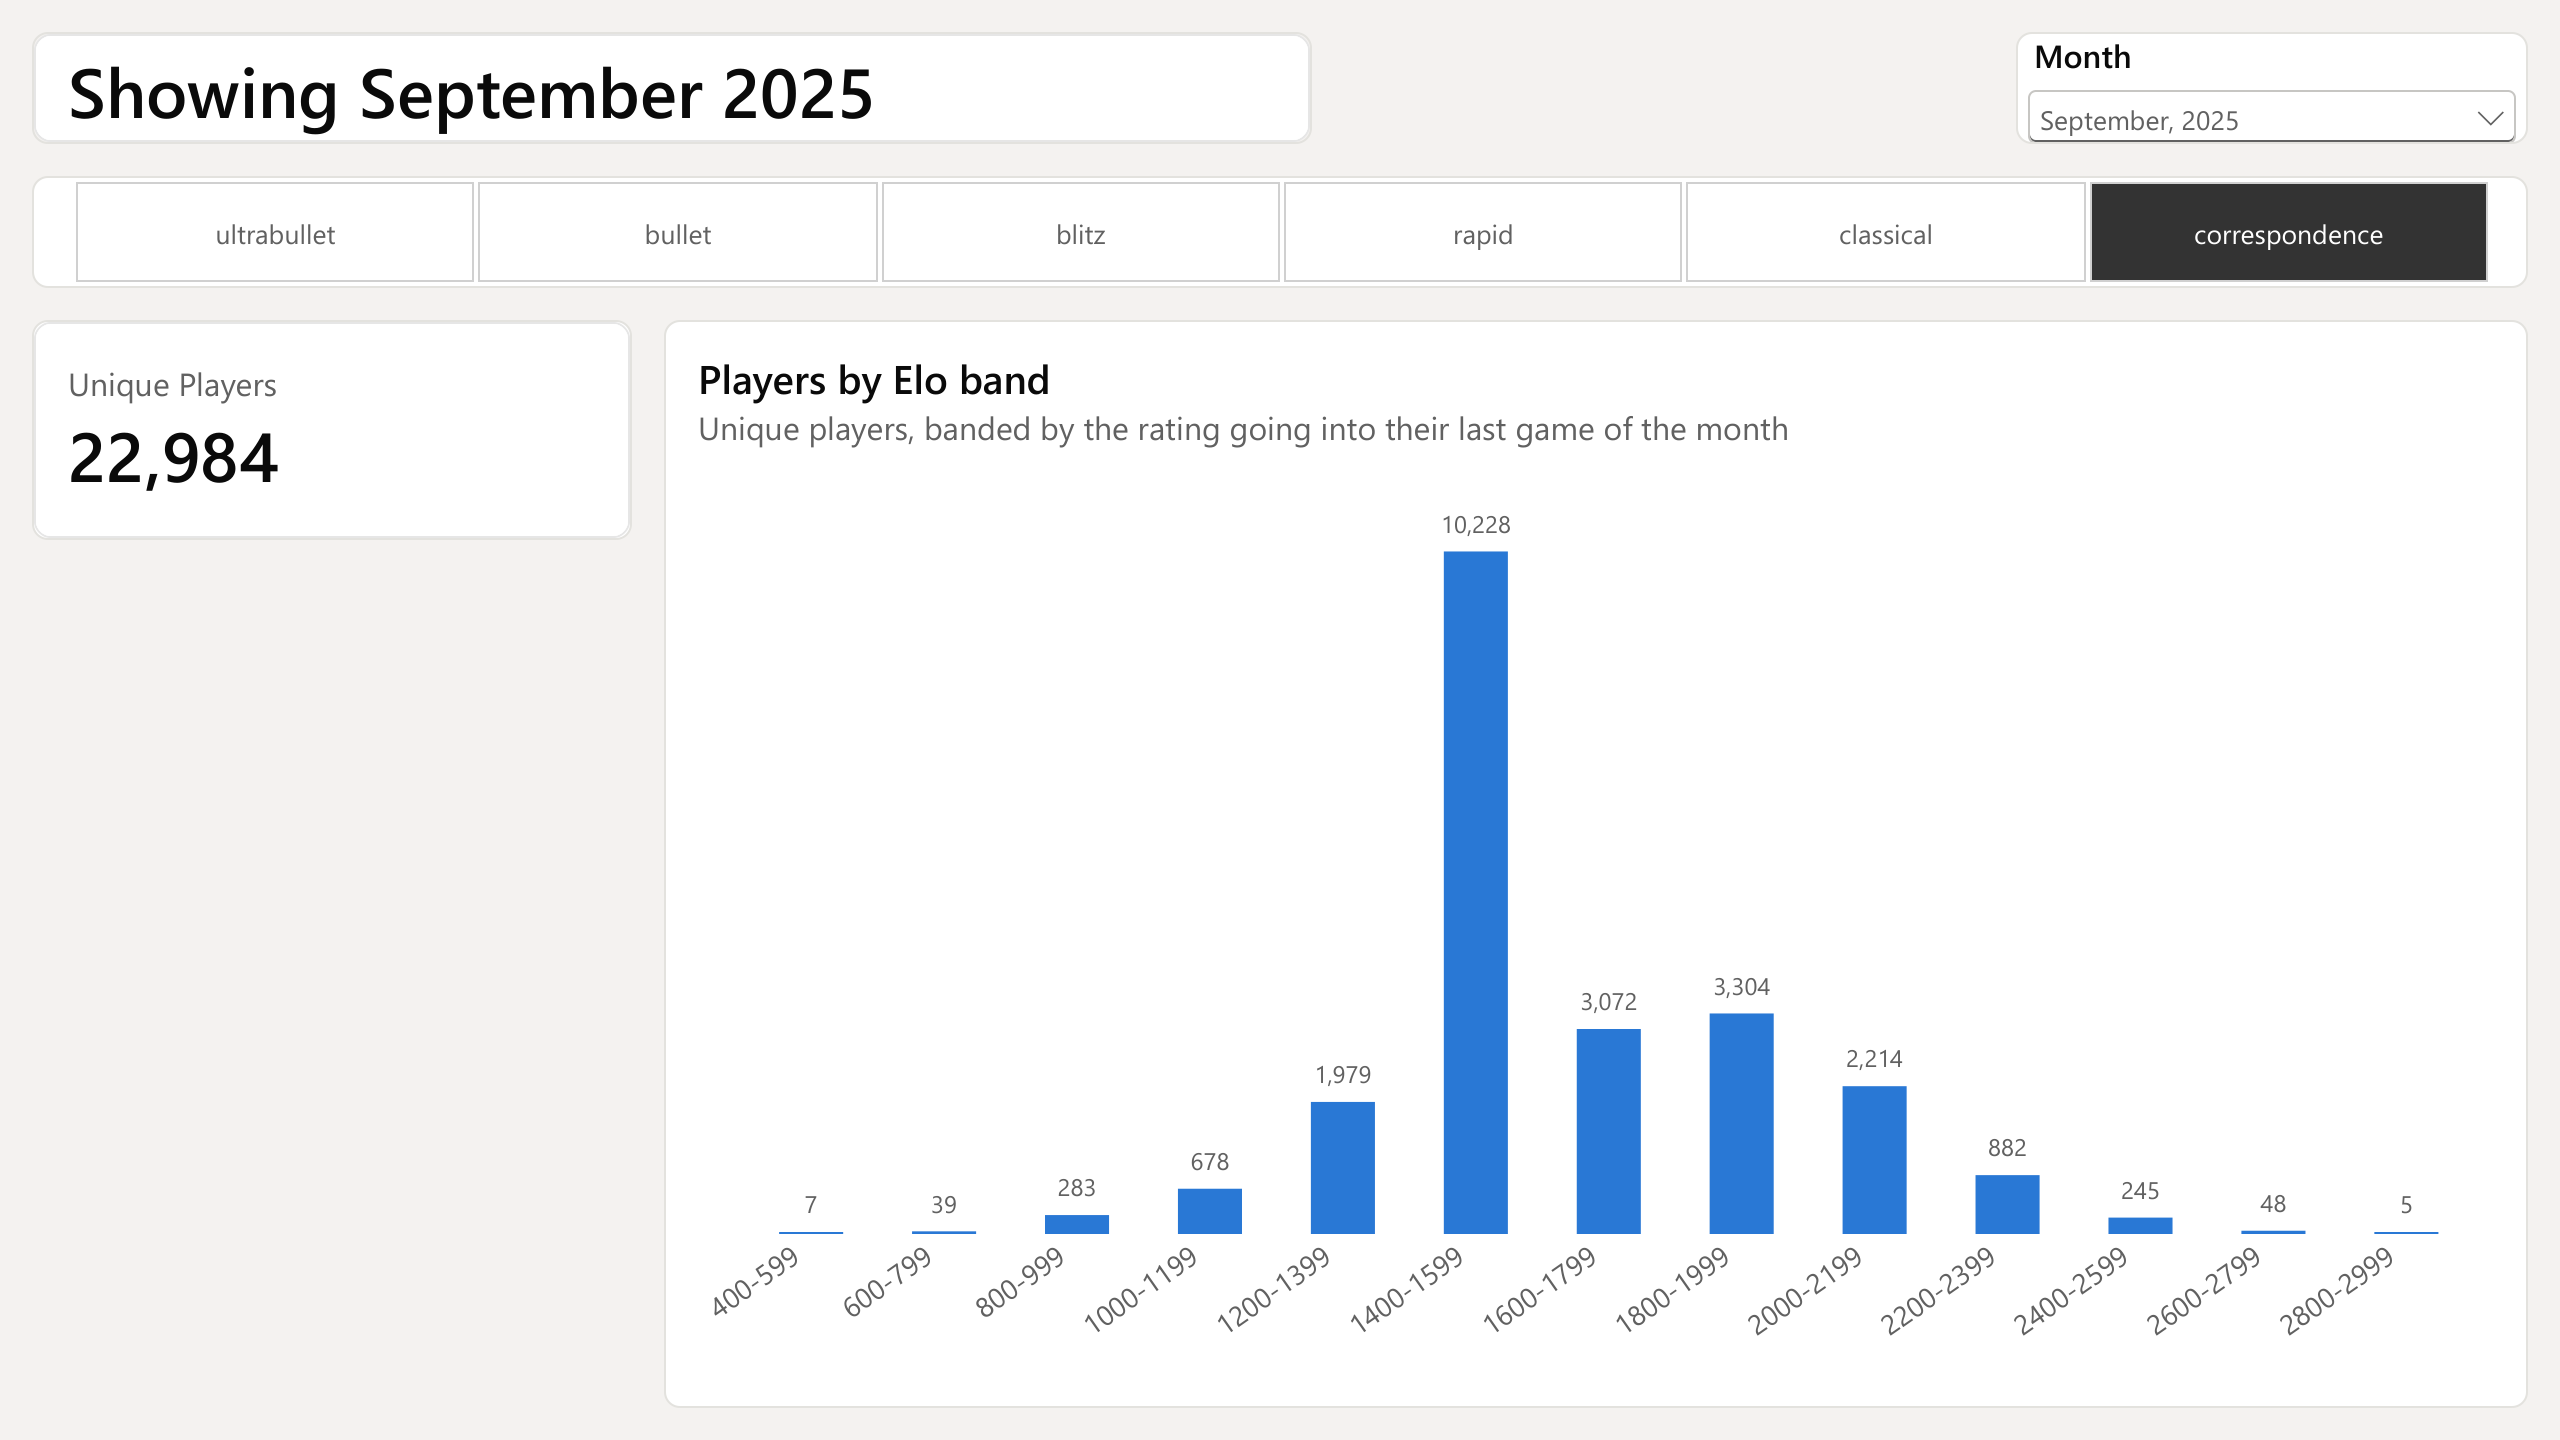

Layout of this report page (visuals, bound fields, positions):
{"tool":"powerbi","page":{"name":"Player By Elo Band","canvas":[1920,1080],"ordinal":1},"visuals":[{"type":"cardVisual","fields":{"Data":["fct_game_outcomes.Selected Month"]},"box":[70,152.9,688.6,68.6],"z":0},{"type":"slicer","fields":{"Values":["dim_month.month_date"]},"box":[758.6,154.3,288.6,67.1],"z":1},{"type":"slicer","fields":{"Values":["dim_time_control.time_control"]},"box":[55,232.5,992.5,76.2],"z":2},{"type":"cardVisual","fields":{"Data":["fct_game_outcomes.Unique Players"]},"box":[70,325,299,156],"z":3},{"type":"clusteredColumnChart","title":"Players by Elo Band","fields":{"Category":["dim_rating_band.band_label"],"Y":["fct_game_outcomes.Unique Players"]},"box":[401.2,325,646.2,430],"z":4}]}

Visuals, with their boxes in screenshot pixels (x1, y1, x2, y2), scaled from the page's 1920x1080 canvas onto the 2560x1440 screenshot:
cardVisual - fct_game_outcomes.Selected Month: x1=93, y1=204, x2=1011, y2=295
slicer - dim_month.month_date: x1=1011, y1=206, x2=1396, y2=295
slicer - dim_time_control.time_control: x1=73, y1=310, x2=1397, y2=412
cardVisual - fct_game_outcomes.Unique Players: x1=93, y1=433, x2=492, y2=641
"Players by Elo Band" clusteredColumnChart: x1=535, y1=433, x2=1397, y2=1007
